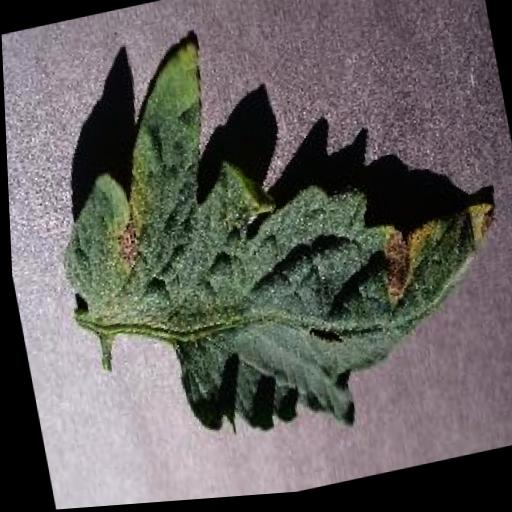Early Blight: (29, 0, 512, 432)
